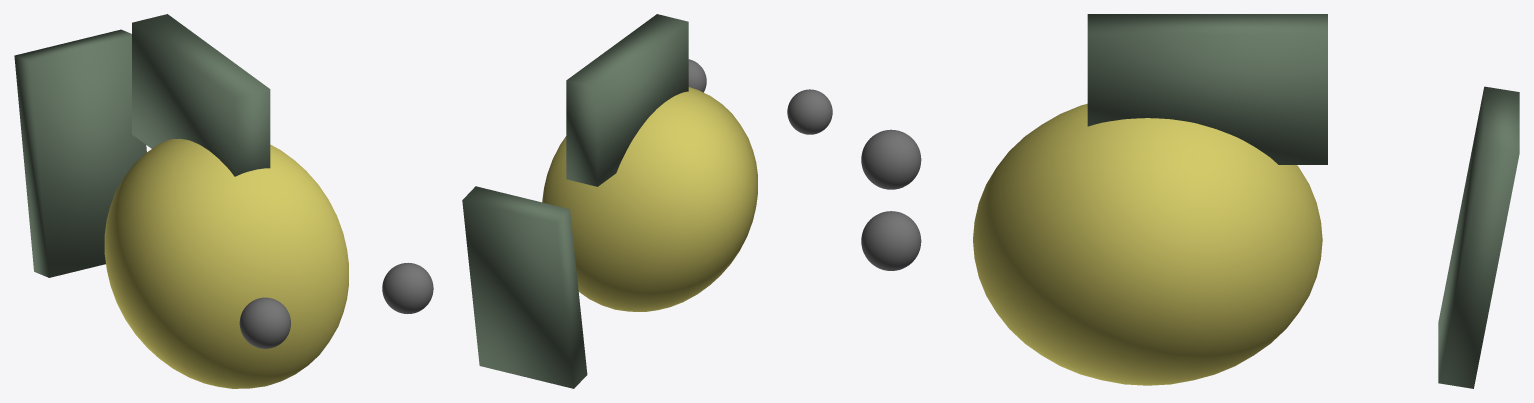
Rendered from fish_carp.glb.
The picture shows the model from 3 angles, left to right: view 1: azimuth 30°, elevation 25°; view 2: azimuth 150°, elevation 25°; view 3: azimuth 270°, elevation 25°; orthographic projection. The views are drawn at different scales.
Parts seen in each view (by area): view 1: body, tail, dorsal, eye-1, eye1; view 2: body, tail, dorsal, eye-1, eye1; view 3: body, dorsal, tail, eye-1, eye1.
Part boxes in pixels (bbox=[...]): body: bbox=[104, 138, 348, 388]; tail: bbox=[14, 29, 146, 277]; dorsal: bbox=[132, 14, 270, 176]; eye-1: bbox=[239, 297, 290, 348]; eye1: bbox=[382, 263, 433, 313]; body: bbox=[542, 87, 757, 311]; tail: bbox=[462, 186, 587, 388]; dorsal: bbox=[566, 14, 688, 186]; eye-1: bbox=[787, 89, 832, 134]; eye1: bbox=[688, 59, 706, 92]; body: bbox=[973, 103, 1322, 385]; dorsal: bbox=[1087, 14, 1327, 164]; tail: bbox=[1438, 86, 1519, 388]; eye-1: bbox=[861, 129, 921, 189]; eye1: bbox=[861, 211, 921, 270].
Bounding box in the file's own units: 0.2184 × 0.3221 × 0.5481.
